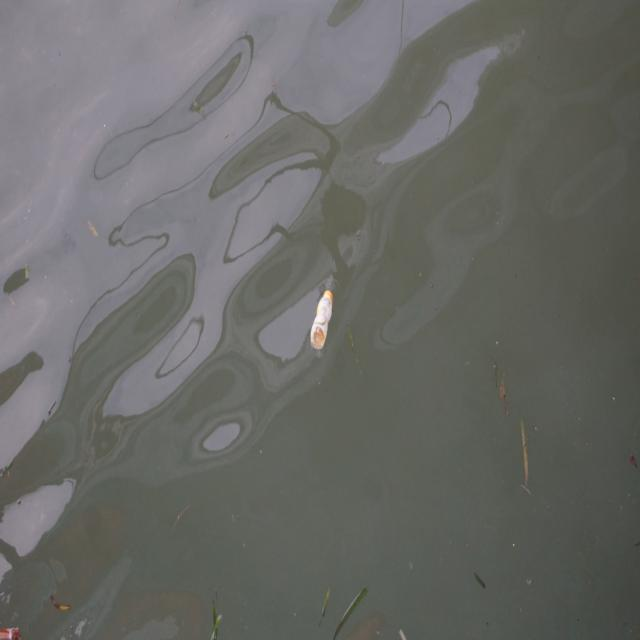Botol Plastik: (309, 285, 336, 357)
